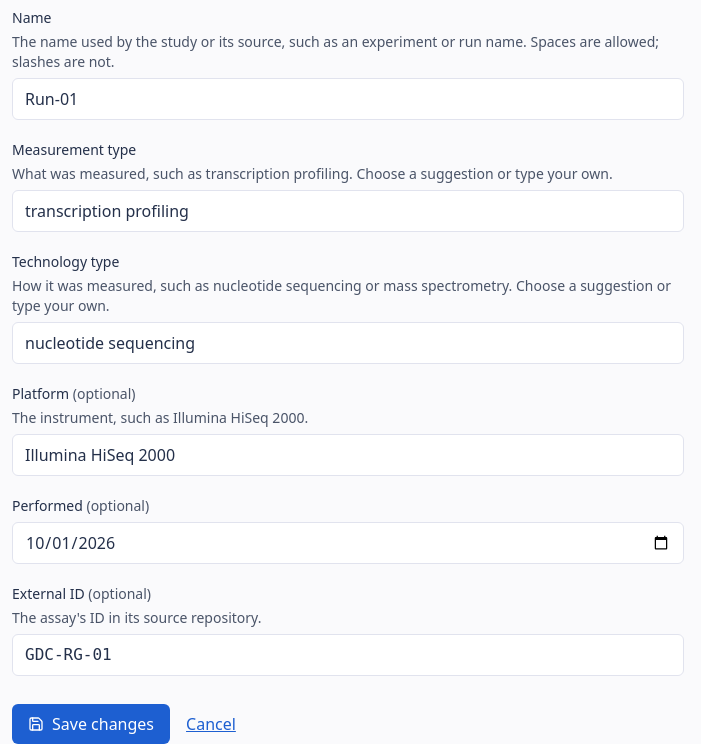
Test: EditAssayPage › shows an error when the changes cannot be saved
The image size is (701, 744).
(page scrolled)
Click the button "Save changes": {"x": 91, "y": 724} [12,704,170,743]
(page scrolled)
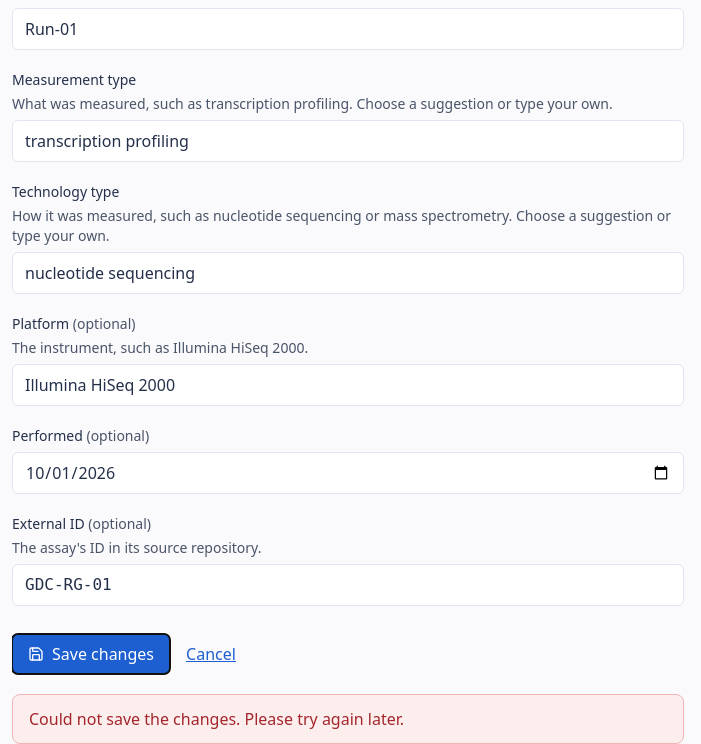
Now the message shows "Could not save the changes.", box [29,708,404,730]
